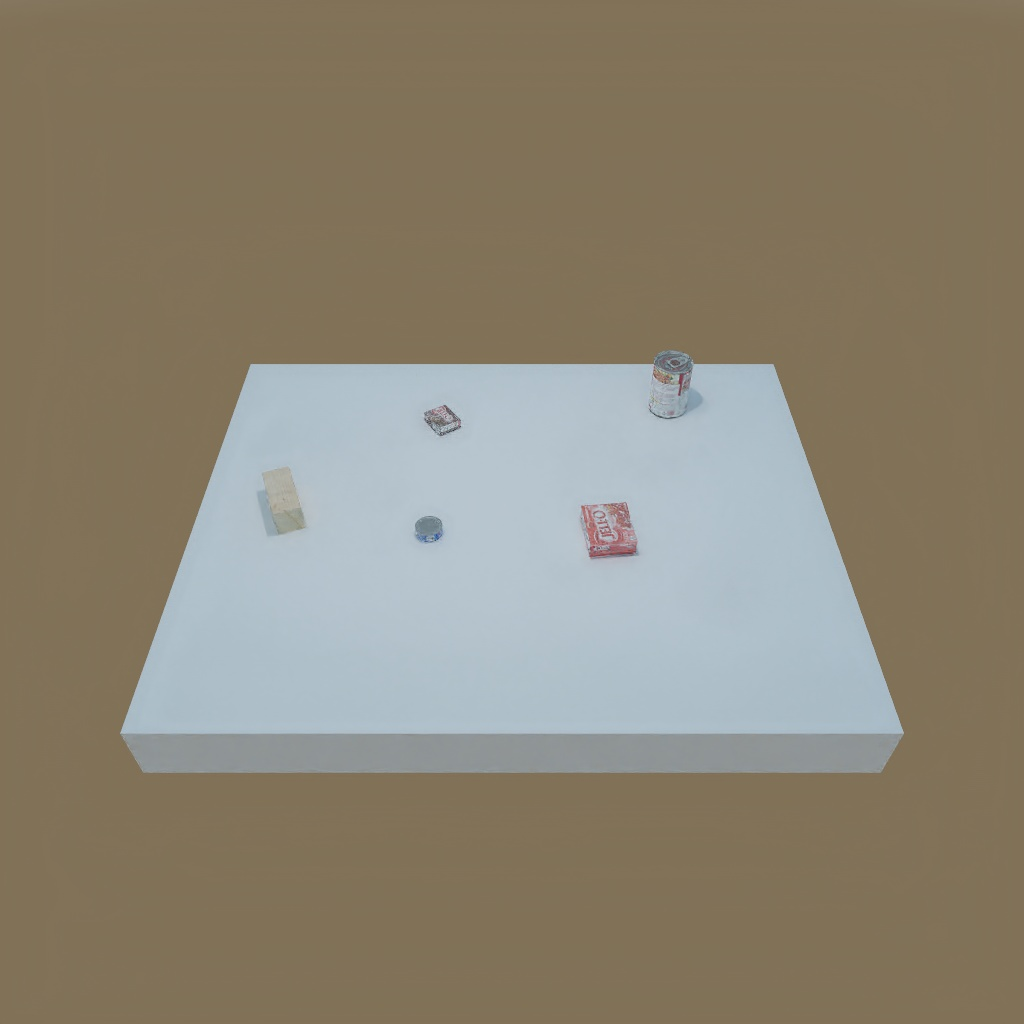gelatin_box: (574, 495, 638, 561)
pudding_box: (423, 402, 464, 436)
tomato_soup_can: (645, 348, 694, 422)
wood_block: (256, 464, 305, 535)
